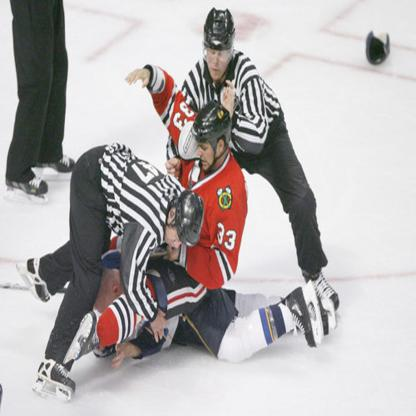face: (207, 38, 230, 80), (198, 136, 219, 172), (165, 225, 185, 250)
